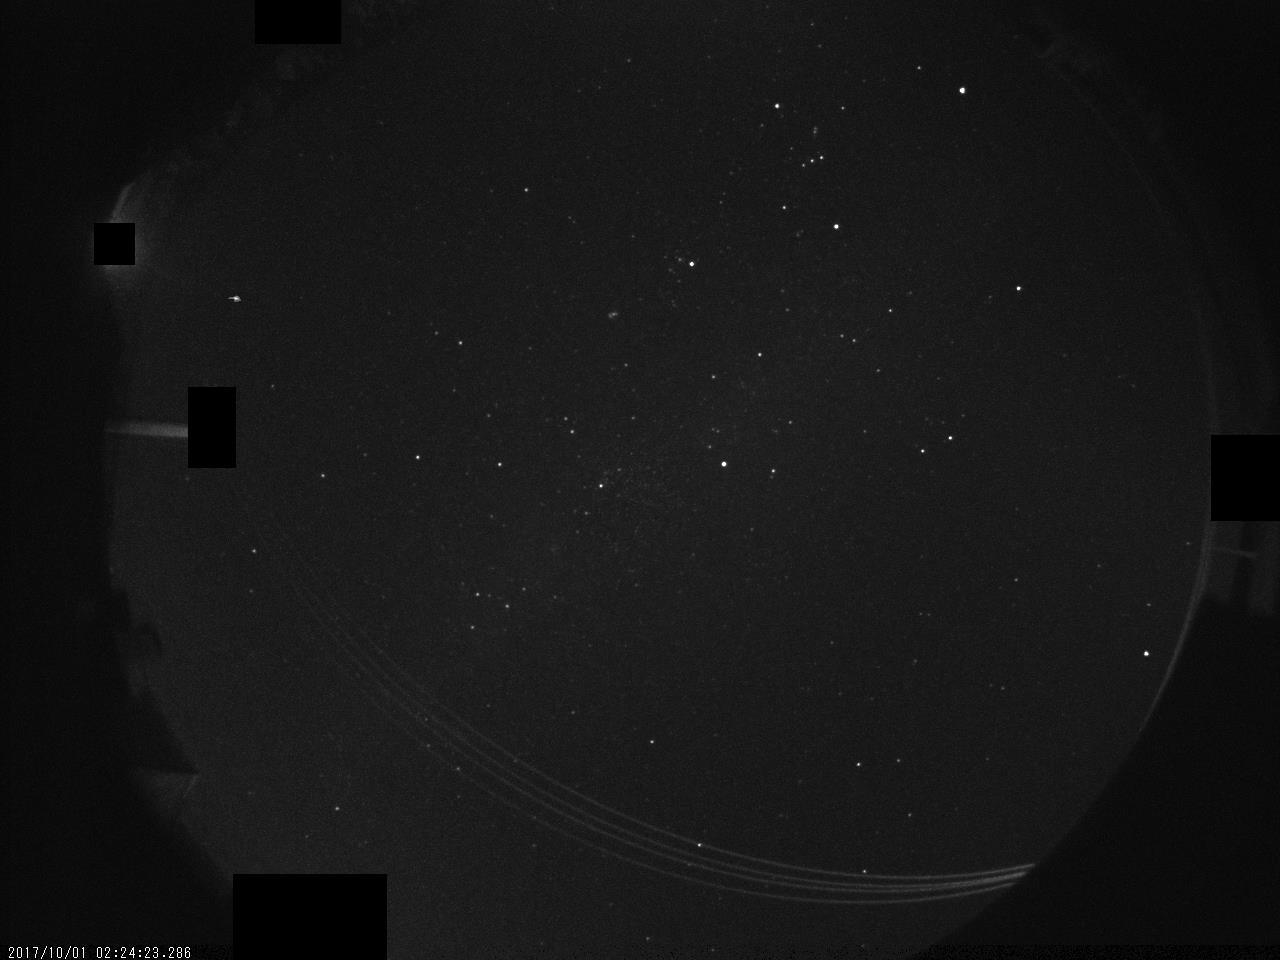TLE: (222, 288, 255, 313)
